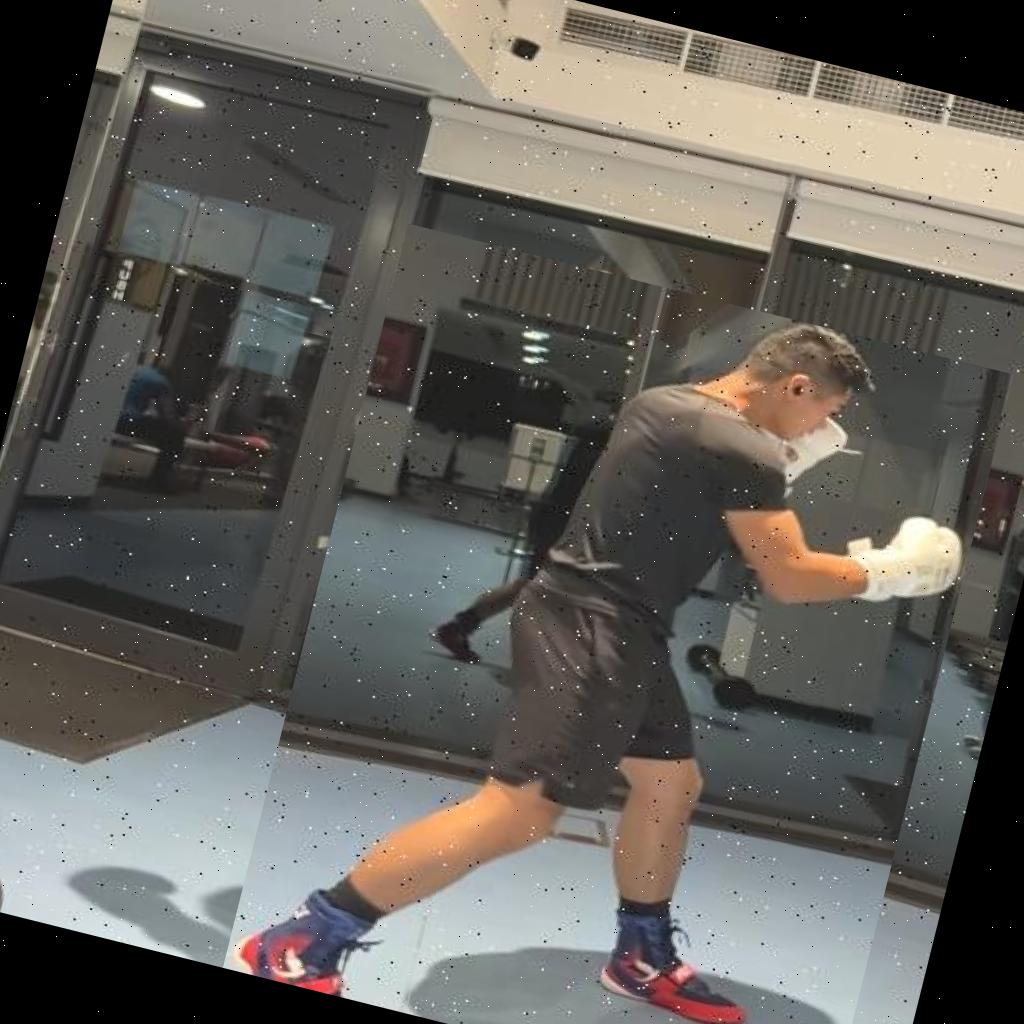uppercut: (222, 223, 1013, 1024)
